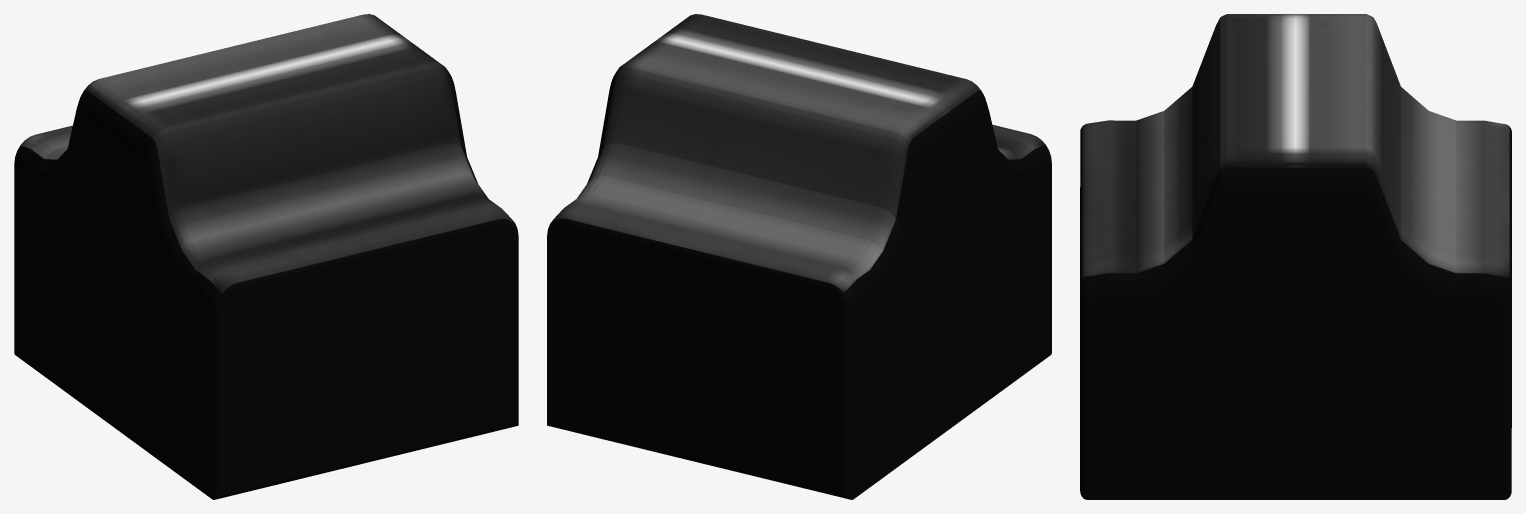
Rendered from volume-riser-left.glb.
3 renders of one model, left to right at view 1: azimuth 30°, elevation 25°; view 2: azimuth 150°, elevation 25°; view 3: azimuth 270°, elevation 25°, orthographic. The views are drawn at different scales.
Parts seen in each view (by area): view 1: Cube.849; view 2: Cube.849; view 3: Cube.849.
Boxes of the visible parts, bbox=[...] form: Cube.849: bbox=[14, 14, 518, 499]; Cube.849: bbox=[547, 14, 1051, 499]; Cube.849: bbox=[1080, 14, 1511, 499].
Bounding box in the file's own units: 0.0408 × 0.0408 × 0.0473.
Materials: 1 (1 with a texture image).
